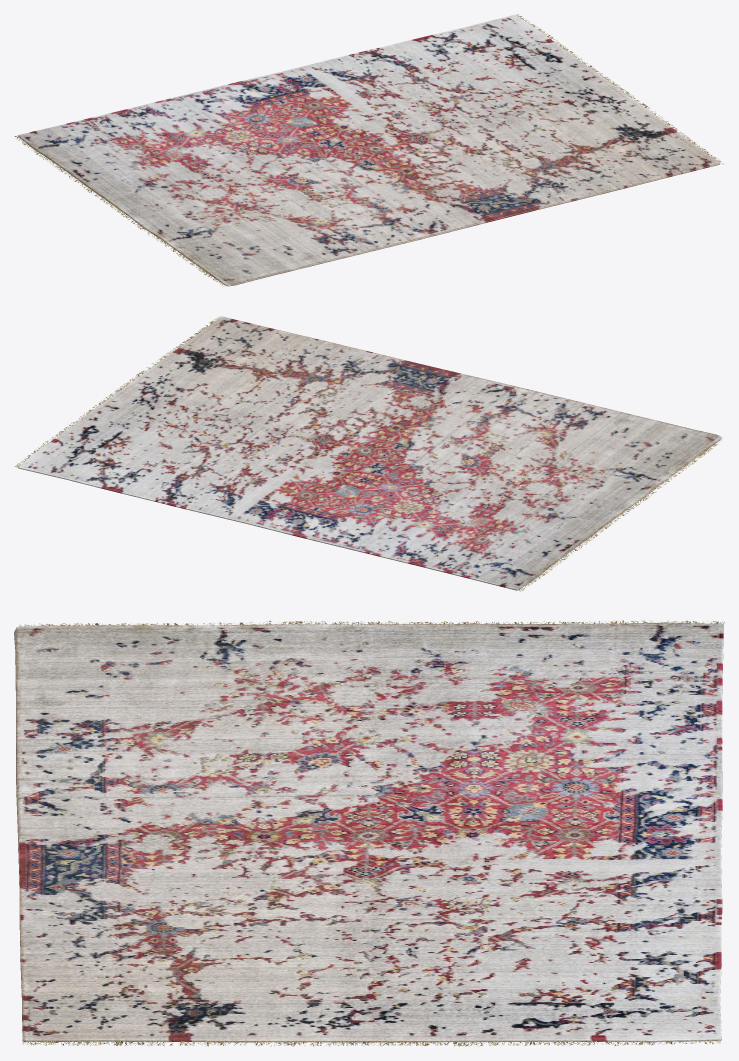
File: tapete.glb
3 renders of one model, top to bottom at view 1: azimuth 30°, elevation 25°; view 2: azimuth 150°, elevation 25°; view 3: azimuth 270°, elevation 25°, orthographic. The views are drawn at different scales.
Parts seen in each view (by area): view 1: Object_5, Object_8; view 2: Object_5, Object_8; view 3: Object_5, Object_8.
Part boxes in pixels (x1,y1,x2,y2): Object_5: (18, 14, 719, 286); Object_8: (14, 14, 724, 286); Object_5: (18, 316, 721, 590); Object_8: (14, 316, 721, 591); Object_5: (14, 622, 723, 1042); Object_8: (19, 620, 724, 1046).
Size of the model in its own units: 2.41 by 0.012 by 1.7.
Materials: 3 (2 with a texture image).
